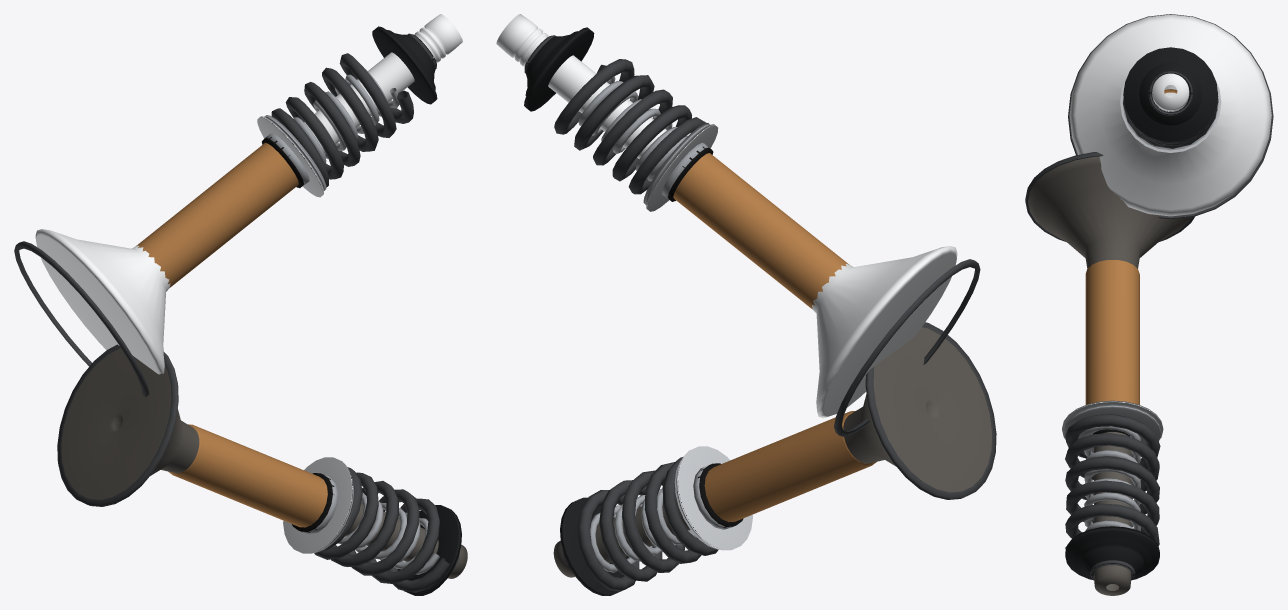
The model's file is valve-set-2.glb.
3 views of the same model, side by side, from view 1: azimuth 30°, elevation 25°; view 2: azimuth 150°, elevation 25°; view 3: azimuth 270°, elevation 25° (orthographic). The views are drawn at different scales.
Parts seen in each view (by area): view 1: valve-set-2:darkSteel, valve-set-2:bronze, valve-set-2:heatSteel, valve-set-2:chrome, valve-set-2:steel, valve-set-2:satinBlack, valve-set-2:polishedSteel, valve-set-2:rubber; view 2: valve-set-2:darkSteel, valve-set-2:bronze, valve-set-2:heatSteel, valve-set-2:chrome, valve-set-2:steel, valve-set-2:satinBlack, valve-set-2:polishedSteel, valve-set-2:rubber; view 3: valve-set-2:chrome, valve-set-2:heatSteel, valve-set-2:darkSteel, valve-set-2:satinBlack, valve-set-2:bronze, valve-set-2:steel, valve-set-2:polishedSteel.
Boxes of the visible parts, left/top/right/bottom form: valve-set-2:darkSteel: left=14, top=33, right=459, bottom=592; valve-set-2:bronze: left=135, top=142, right=327, bottom=527; valve-set-2:heatSteel: left=61, top=348, right=467, bottom=578; valve-set-2:chrome: left=35, top=14, right=462, bottom=374; valve-set-2:steel: left=264, top=69, right=439, bottom=574; valve-set-2:satinBlack: left=372, top=26, right=461, bottom=595; valve-set-2:polishedSteel: left=257, top=116, right=353, bottom=553; valve-set-2:rubber: left=262, top=136, right=334, bottom=532; valve-set-2:darkSteel: left=524, top=35, right=996, bottom=591; valve-set-2:bronze: left=673, top=153, right=876, bottom=521; valve-set-2:heatSteel: left=553, top=327, right=992, bottom=577; valve-set-2:chrome: left=496, top=14, right=957, bottom=418; valve-set-2:steel: left=575, top=76, right=736, bottom=572; valve-set-2:satinBlack: left=524, top=27, right=627, bottom=595; valve-set-2:polishedSteel: left=646, top=124, right=752, bottom=550; valve-set-2:rubber: left=667, top=145, right=743, bottom=527; valve-set-2:chrome: left=1069, top=14, right=1271, bottom=216; valve-set-2:heatSteel: left=1028, top=156, right=1191, bottom=595; valve-set-2:darkSteel: left=1025, top=14, right=1273, bottom=580; valve-set-2:satinBlack: left=1065, top=47, right=1217, bottom=579; valve-set-2:bronze: left=1085, top=89, right=1177, bottom=404; valve-set-2:steel: left=1064, top=96, right=1218, bottom=531; valve-set-2:polishedSteel: left=1062, top=77, right=1221, bottom=439.
Size of the model in its own units: 117 by 144 by 59.8.
